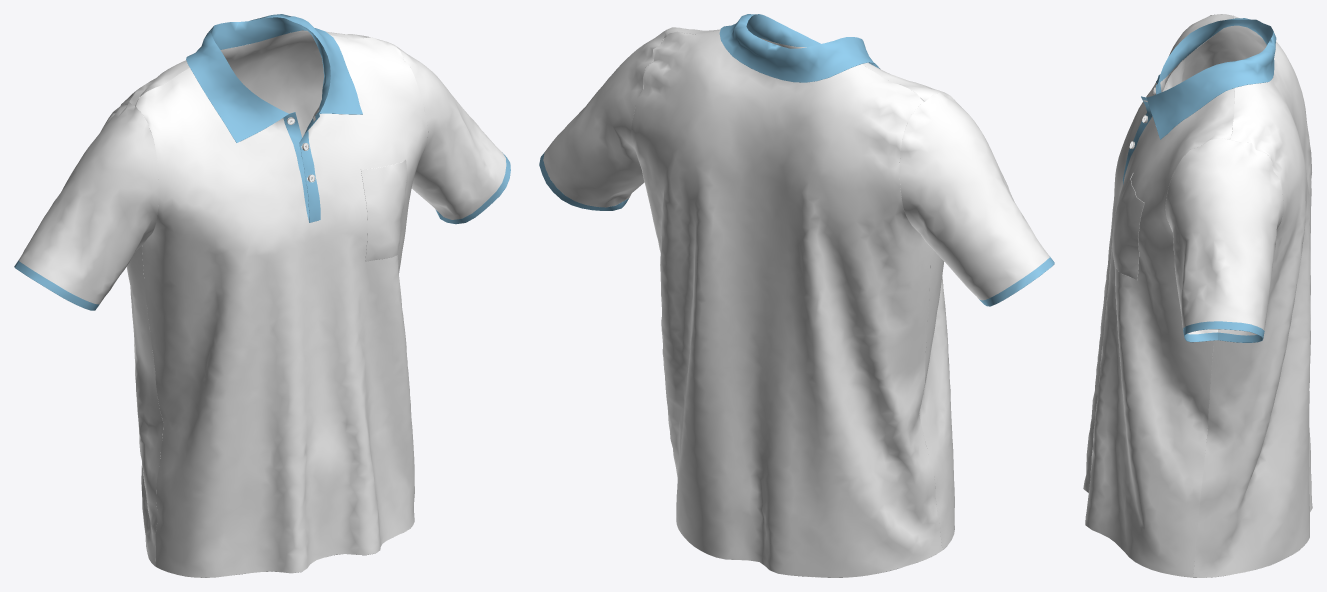
The model's file is t-shirt_polo_lengan_pendek.glb.
The picture shows the model from 3 angles, left to right: view 1: azimuth 30°, elevation 25°; view 2: azimuth 150°, elevation 25°; view 3: azimuth 270°, elevation 25°; orthographic projection. The views are drawn at different scales.
Parts seen in each view (by area): view 1: Object_12, Object_18, Object_9, Object_11, Object_17, Object_16, Object_10, Object_14; view 2: Object_9, Object_18, Object_17, Object_12, Object_11, Object_14; view 3: Object_12, Object_9, Object_17, Object_11, Object_18, Object_16, Object_13, Object_10.
Boxes of the visible parts, bbox=[...] form: Object_12: bbox=[135, 35, 427, 577]; Object_18: bbox=[18, 102, 158, 304]; Object_9: bbox=[113, 30, 370, 565]; Object_11: bbox=[186, 14, 362, 142]; Object_17: bbox=[396, 46, 506, 219]; Object_16: bbox=[361, 159, 406, 261]; Object_10: bbox=[283, 111, 320, 222]; Object_14: bbox=[14, 260, 99, 310]; Object_9: bbox=[631, 30, 942, 577]; Object_18: bbox=[899, 92, 1049, 300]; Object_17: bbox=[543, 30, 665, 207]; Object_12: bbox=[664, 27, 954, 549]; Object_11: bbox=[719, 14, 879, 82]; Object_14: bbox=[979, 256, 1054, 306]; Object_12: bbox=[1083, 14, 1234, 577]; Object_9: bbox=[1193, 16, 1312, 577]; Object_17: bbox=[1165, 138, 1283, 335]; Object_11: bbox=[1147, 18, 1276, 139]; Object_18: bbox=[1166, 25, 1266, 89]; Object_16: bbox=[1112, 173, 1144, 280]; Object_13: bbox=[1183, 321, 1264, 342]; Object_10: bbox=[1122, 83, 1161, 184].
Bounding box in the file's own units: 706 × 689 × 296.
